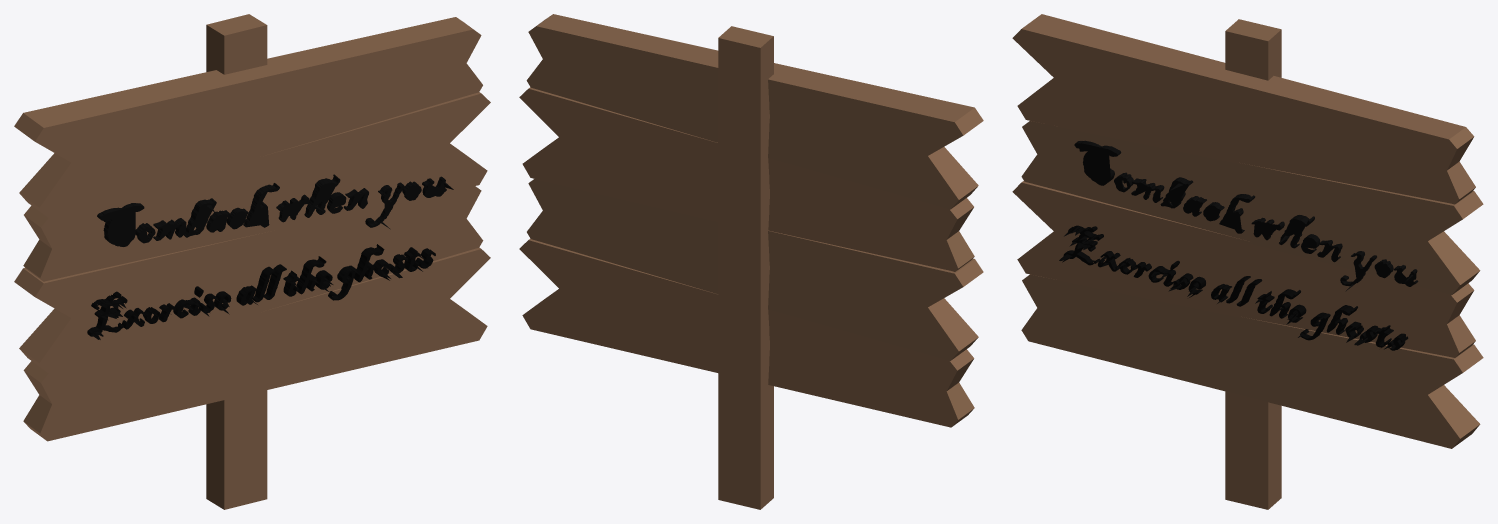
Rendered from woodenboard.fbx.
3 renders of one model, left to right at view 1: azimuth 30°, elevation 25°; view 2: azimuth 150°, elevation 25°; view 3: azimuth 330°, elevation 25°, orthographic. The views are drawn at different scales.
Parts seen in each view (by area): view 1: Plane, Text, Text.001; view 2: Plane; view 3: Plane, Text, Text.001.
Boxes of the visible parts, box(x1,y1,x2,y2) form: Plane: box(14, 14, 490, 509); Text: box(97, 174, 453, 246); Text.001: box(87, 244, 435, 339); Plane: box(519, 14, 983, 509); Plane: box(1012, 14, 1483, 509); Text: box(1074, 140, 1418, 291); Text.001: box(1059, 225, 1408, 350).
Size of the model in its own units: 52.1 by 51.76 by 8.04.
